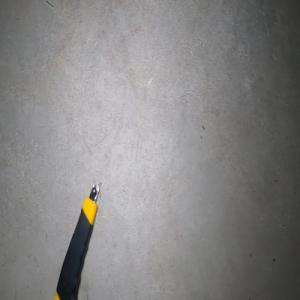Cutter: (53, 182, 101, 300)
